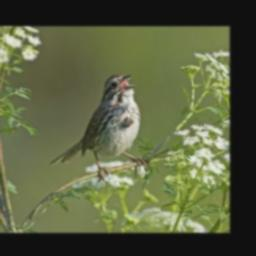Sparrow: (48, 72, 152, 185)
